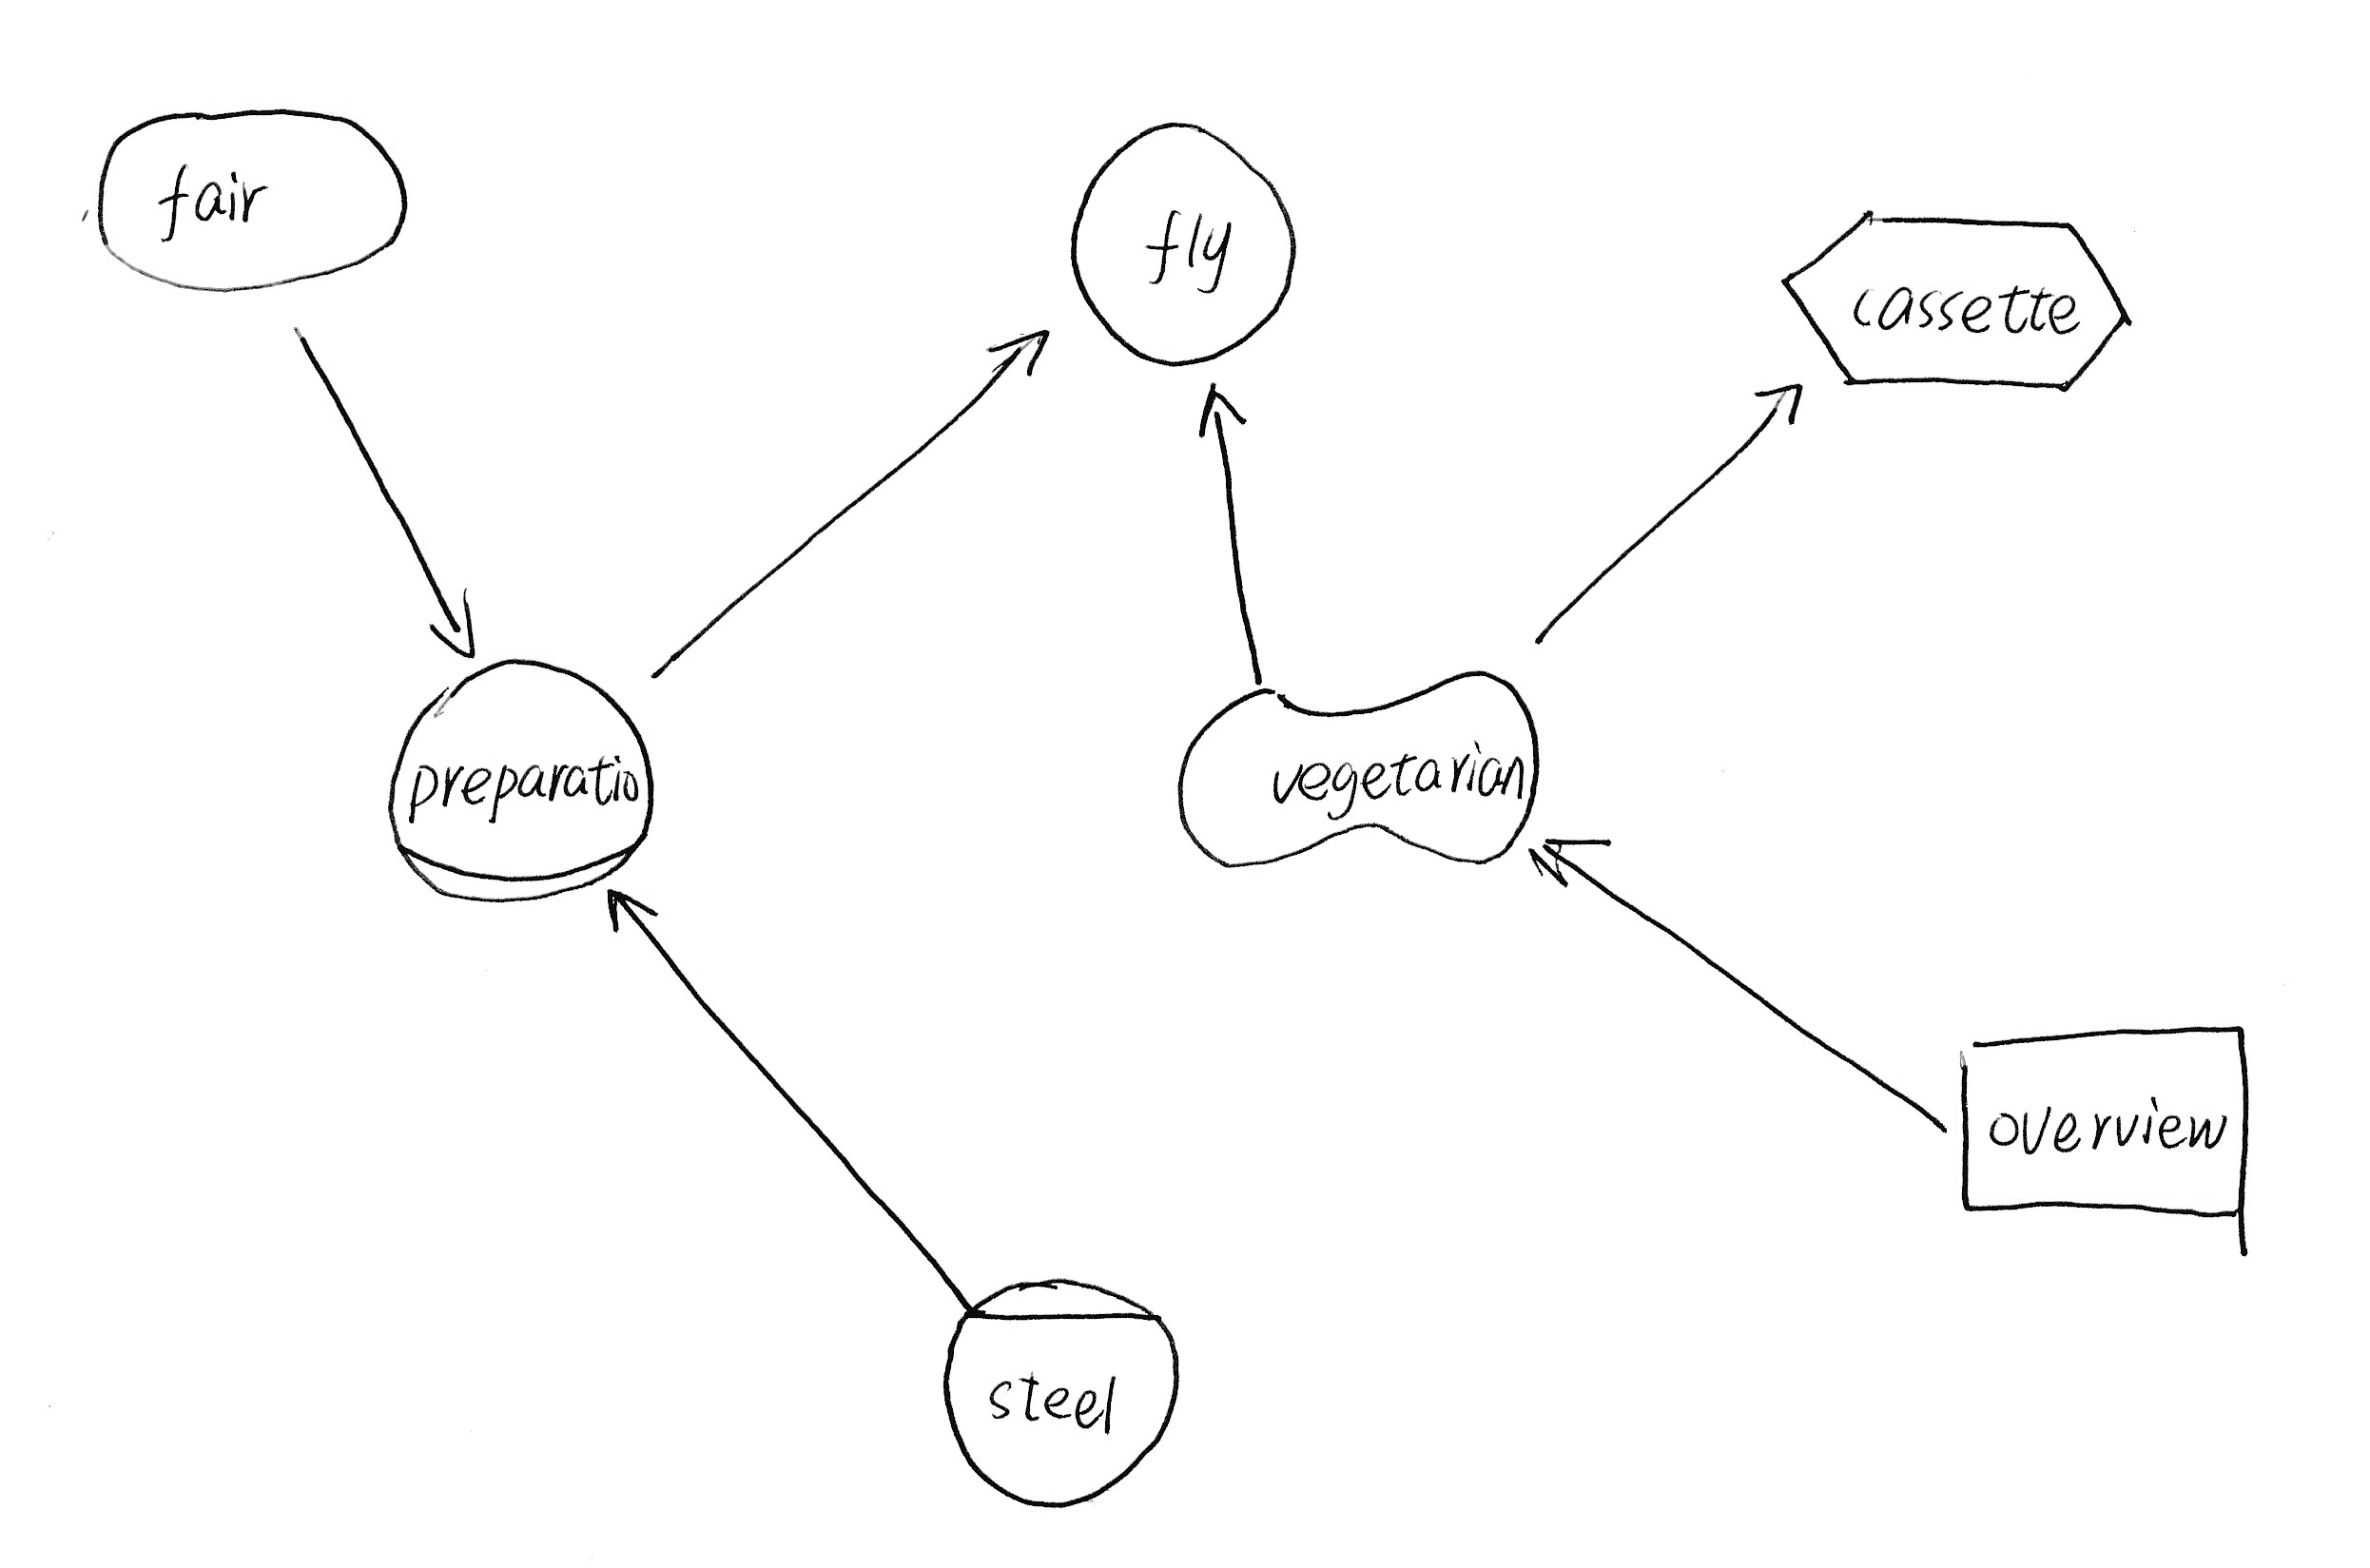actor: (1054, 107, 1315, 380)
agent: (931, 1263, 1197, 1519)
arrow: (1514, 824, 1621, 905), (420, 577, 492, 665), (982, 313, 1059, 392), (586, 873, 674, 940), (1183, 369, 1257, 444), (1743, 376, 1812, 436)
goal: (82, 93, 422, 308)
quality: (1160, 660, 1556, 891)
resource: (1945, 1010, 2270, 1263)
role: (373, 644, 674, 919)
task: (1770, 194, 2146, 408)
